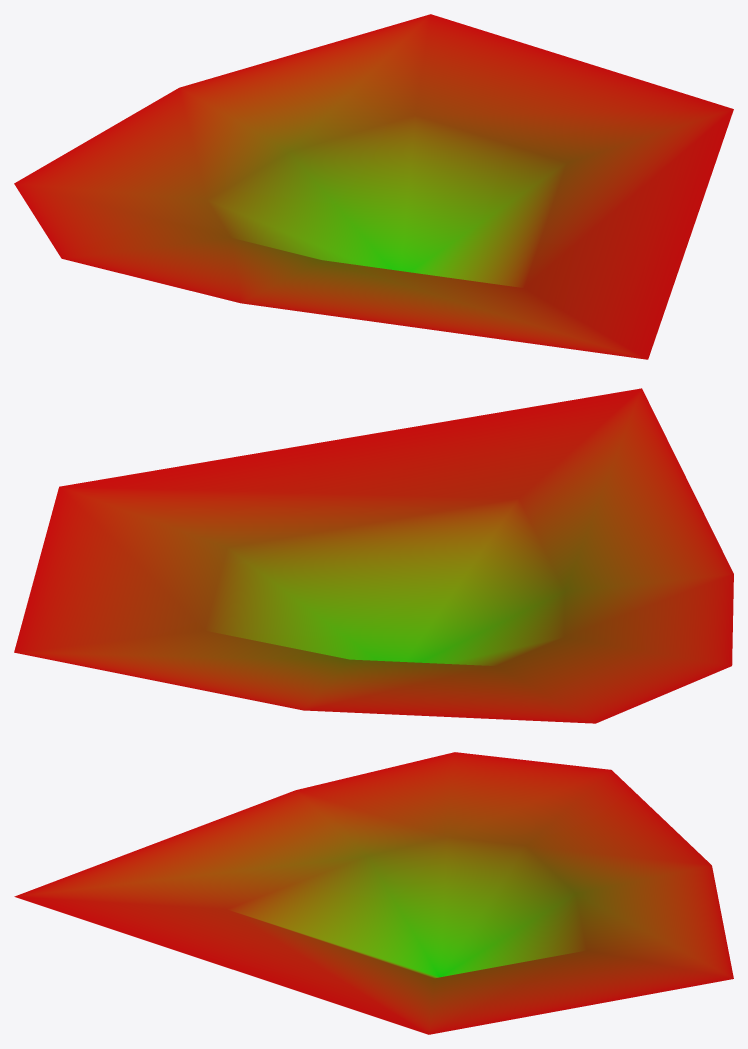
The model's file is Var24_LOD3.fbx.
The picture shows the model from 3 angles, top to bottom: view 1: azimuth 30°, elevation 25°; view 2: azimuth 150°, elevation 25°; view 3: azimuth 270°, elevation 25°; orthographic projection. The views are drawn at different scales.
Visible parts, largest first — view 1: _jm46_Var24_LOD3; view 2: _jm46_Var24_LOD3; view 3: _jm46_Var24_LOD3.
Boxes of the visible parts, x1,y1,x2,y2 form: _jm46_Var24_LOD3: (14,14,733,359); _jm46_Var24_LOD3: (14,388,733,723); _jm46_Var24_LOD3: (14,752,733,1034).
Size of the model in its own units: 21.89 by 3.01 by 23.56.
